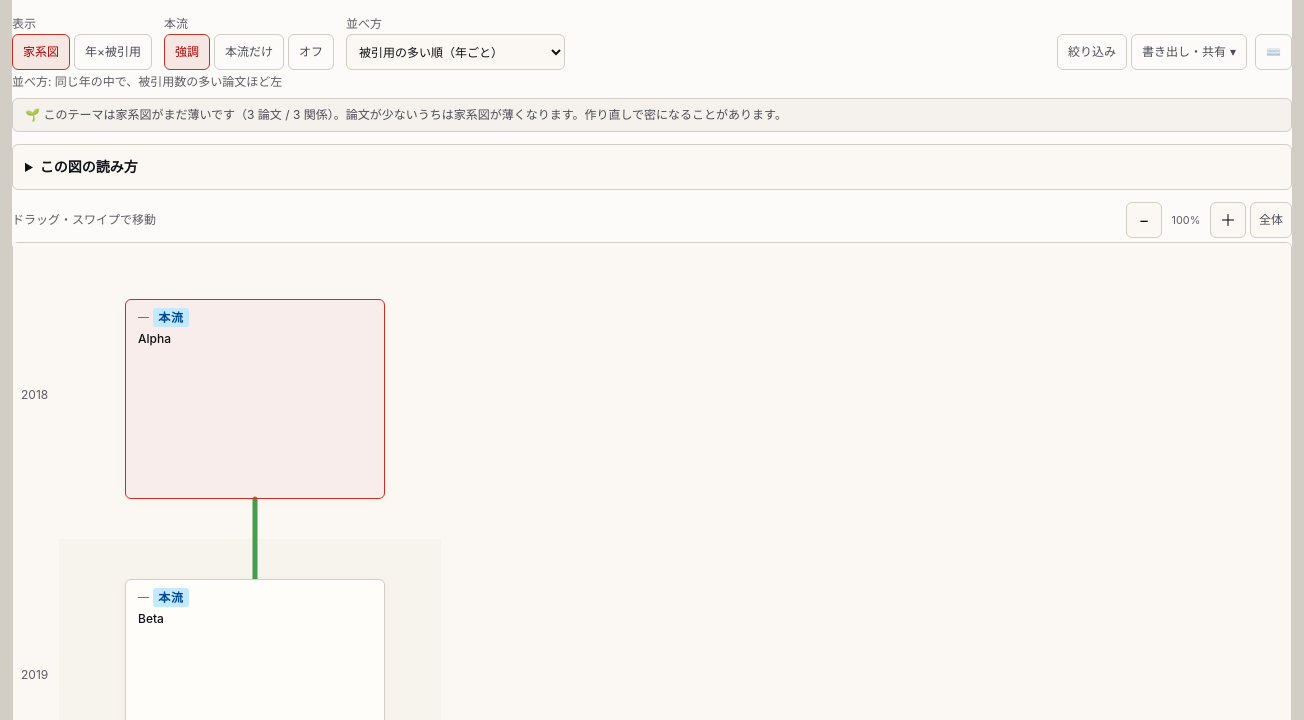
Test: toolbar › orders the tree with a labelled <select>, keeps ?xaxis= and explains the choice
The image size is (1304, 720).
Select "研究の流れでまとめる" in the dropdown labelled "並べ方" at (456, 52), box [346,34,565,70]
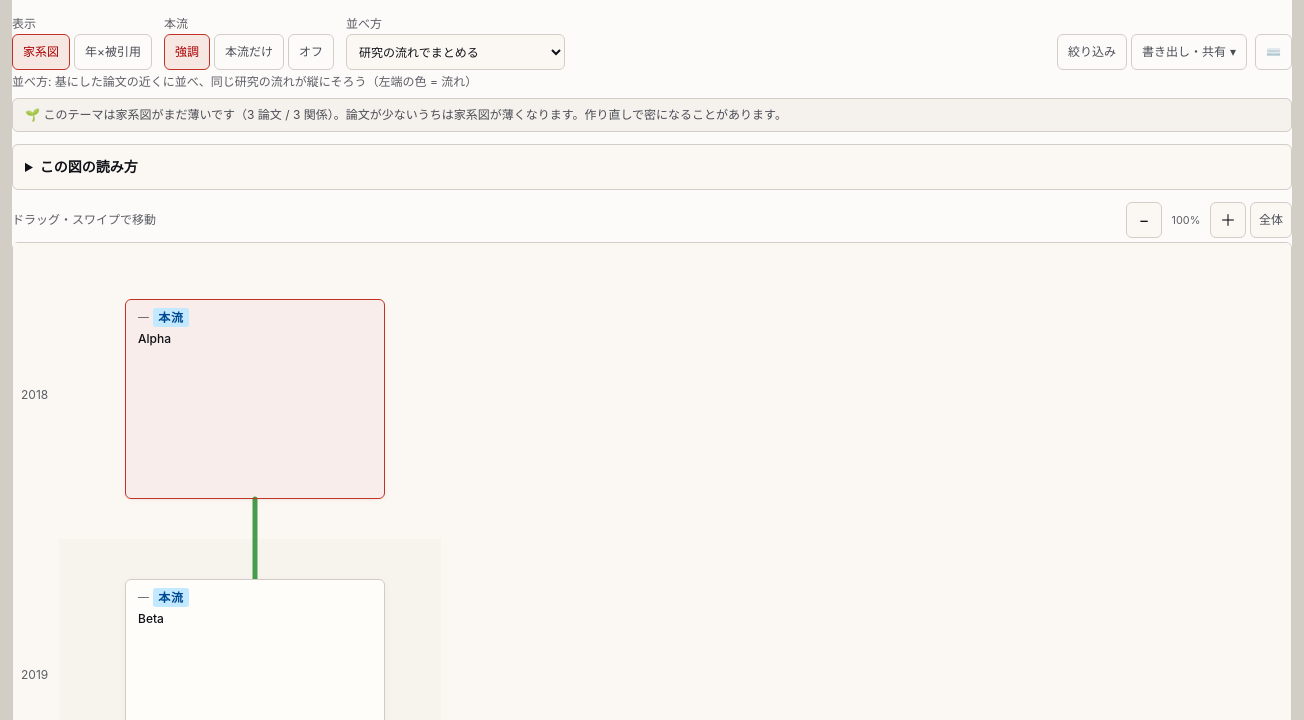
Now the text with id "theme-xaxis-hint" shows "研究の流れ", box [55,74,477,89]
